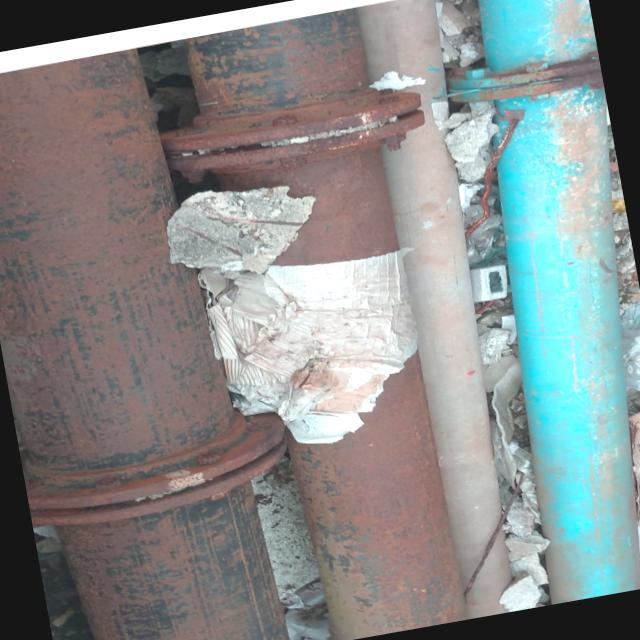gas: (155, 0, 506, 640), (0, 35, 308, 640), (433, 0, 640, 605)
